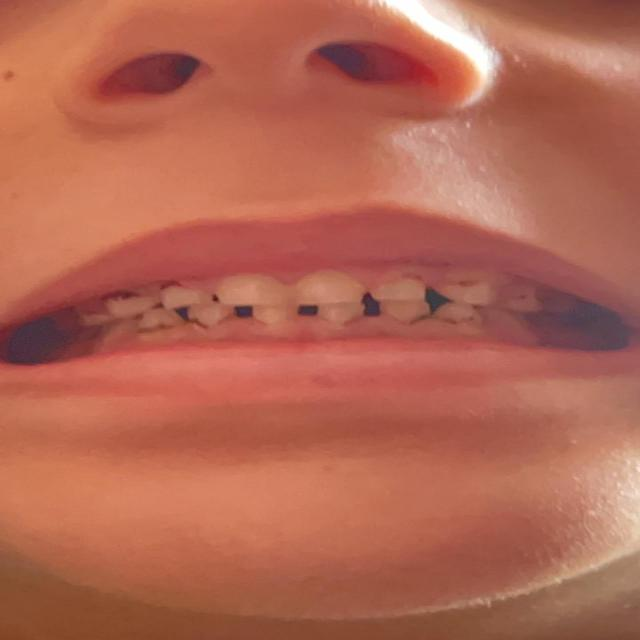tooth: (290, 277, 357, 303), (376, 276, 421, 300), (226, 280, 271, 300), (72, 303, 120, 321), (193, 308, 235, 328), (383, 302, 429, 320), (446, 280, 484, 301), (449, 302, 479, 328), (252, 306, 290, 324), (138, 315, 182, 329), (504, 290, 533, 310), (169, 288, 201, 304), (122, 295, 150, 313), (324, 307, 358, 321)
